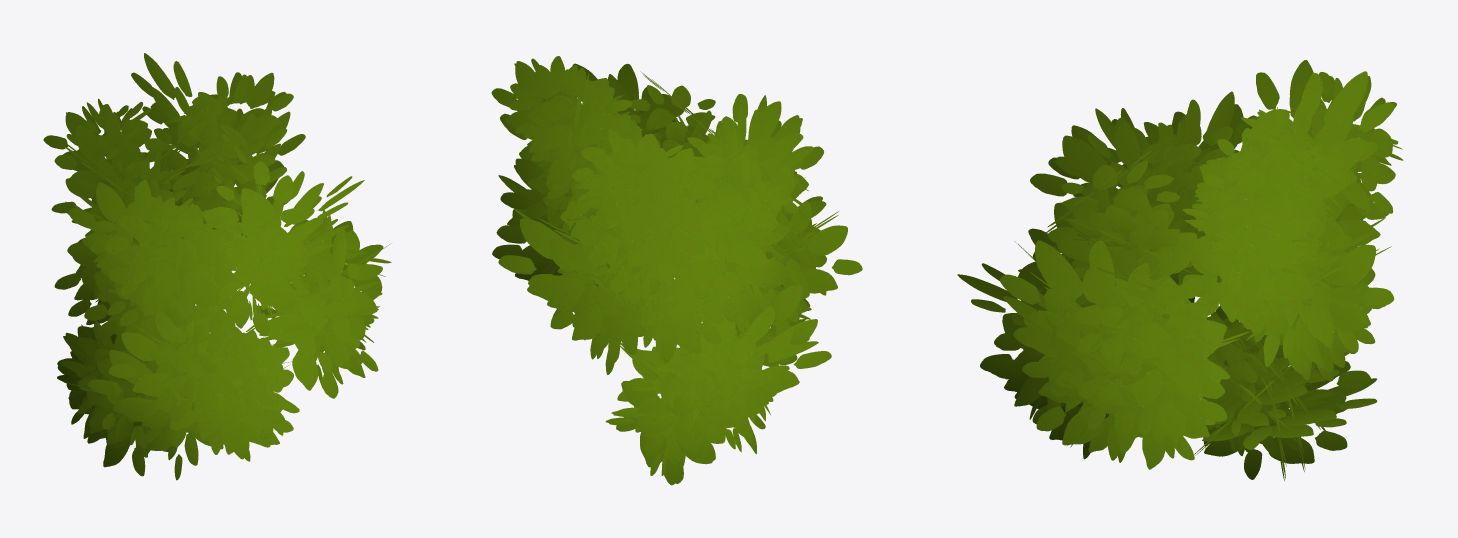
File: commontree-5-lo.glb
3 renders of one model, left to right at view 1: azimuth 30°, elevation 25°; view 2: azimuth 150°, elevation 25°; view 3: azimuth 270°, elevation 25°, orthographic. The views are drawn at different scales.
Parts seen in each view (by area): view 1: CommonTree_5; view 2: CommonTree_5; view 3: CommonTree_5.
Part boxes in pixels (<box>): CommonTree_5: <box>43,53,391,480</box>; CommonTree_5: <box>491,56,862,485</box>; CommonTree_5: <box>957,60,1403,480</box>.
Bounding box in the file's own units: 4.29 × 5.06 × 4.43.
Materials: 1 (1 with a texture image).
